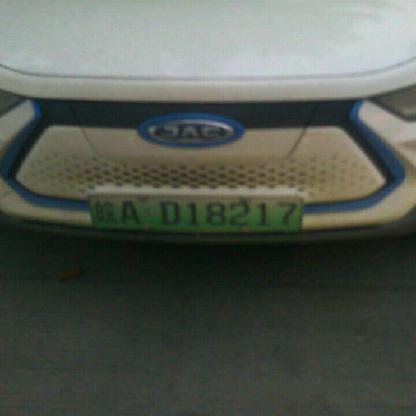lp: (87, 193, 303, 232)
